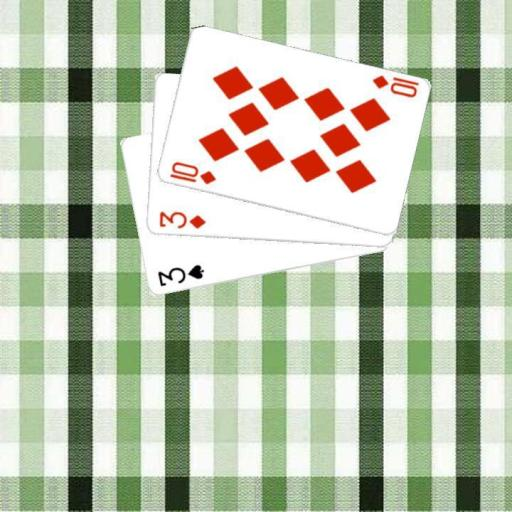card-corner: (368, 72, 420, 99), (166, 159, 217, 186), (154, 262, 206, 288), (156, 208, 207, 230)
